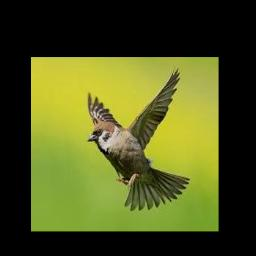Sparrow: (87, 66, 190, 211)
